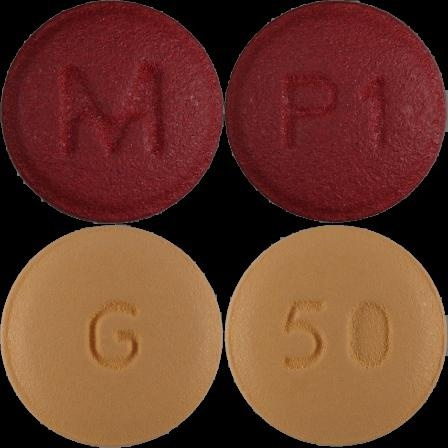43063-607: (0, 0, 224, 224)
